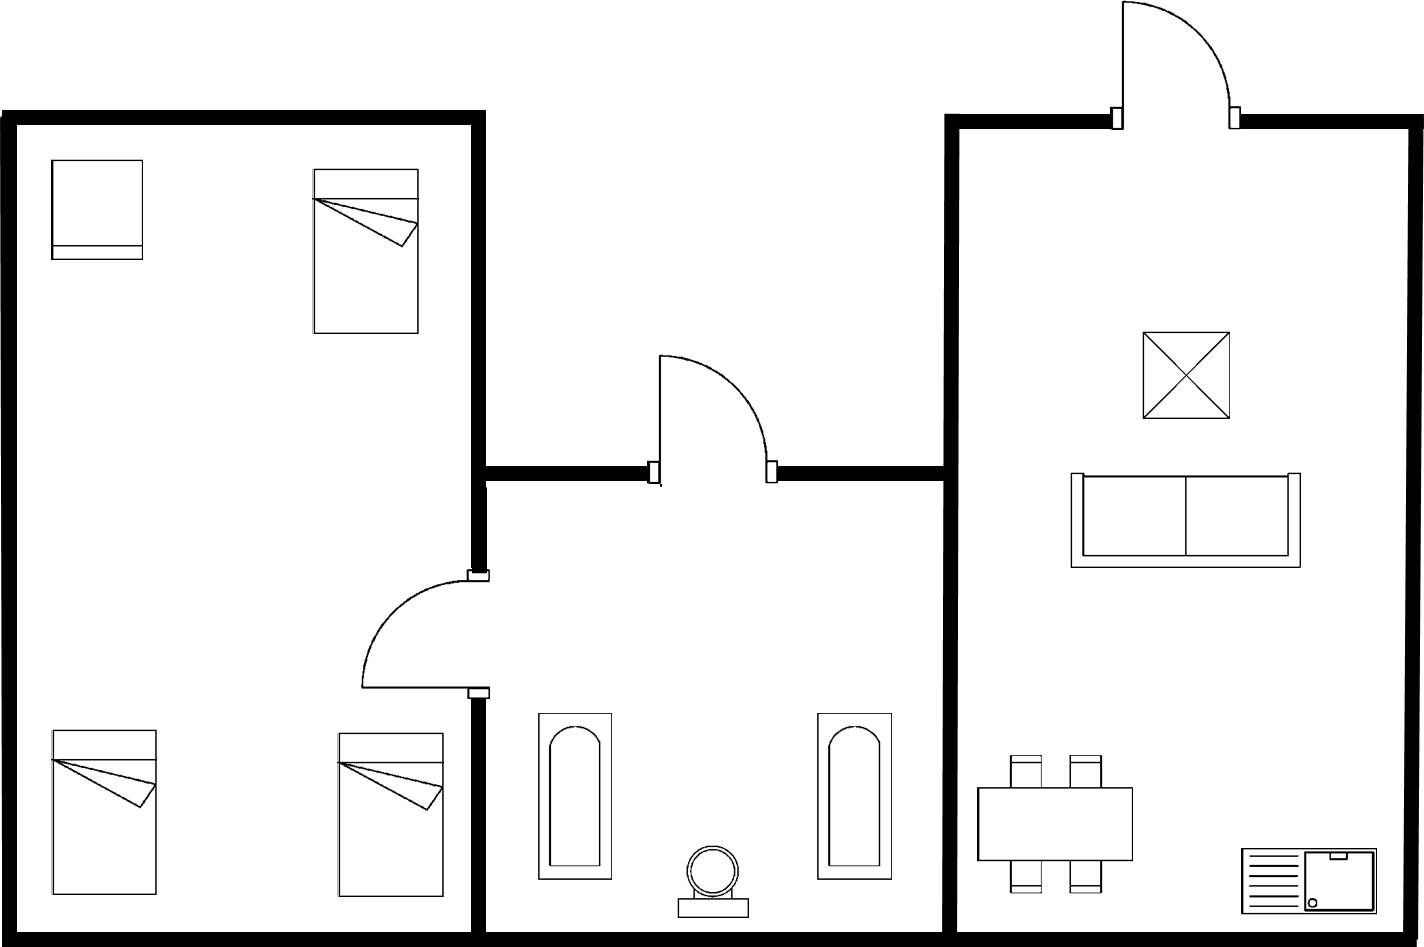bed: (44, 724, 167, 903), (306, 161, 425, 344), (332, 727, 449, 904)
coffee_table: (1135, 323, 1235, 424)
dining_table: (972, 748, 1139, 898)
large_sink: (674, 840, 755, 925)
large_sofa: (1065, 466, 1306, 574)
sink: (1234, 841, 1383, 920)
small_sofa: (45, 153, 149, 265)
tub: (530, 706, 617, 887), (811, 707, 897, 887)
